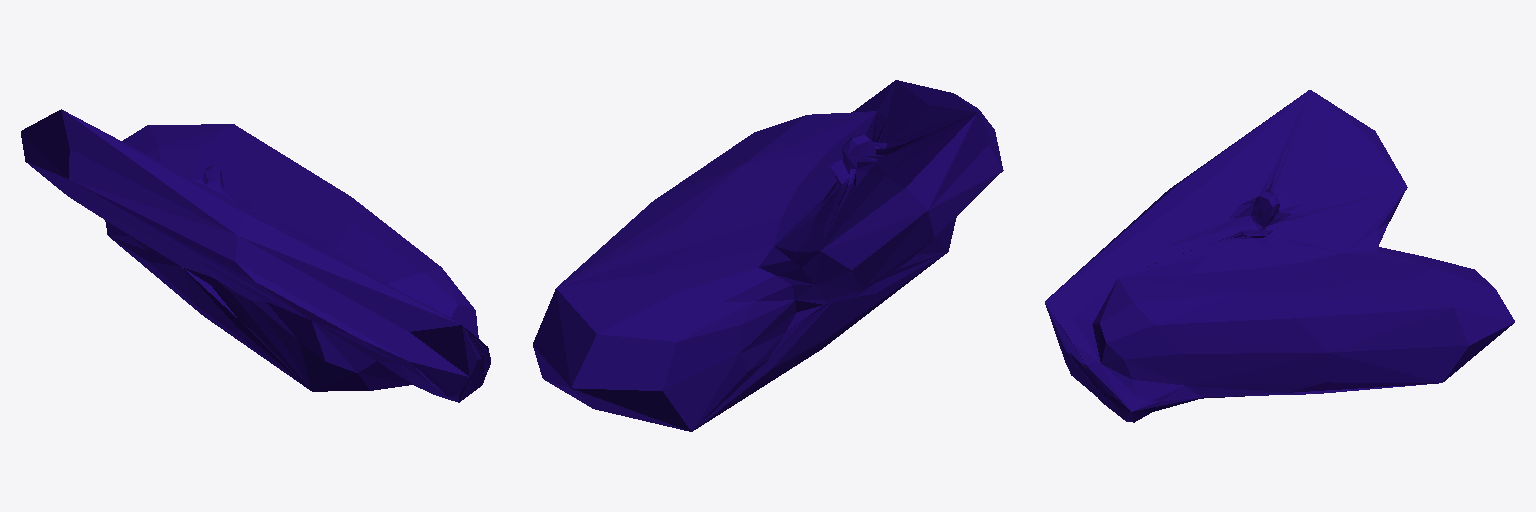
robot.urdf — blob243:

<robot name="blob243">
  <link name="random_obj_243">
    <contact>
      <lateral_friction value="1.0"/>
      <rolling_friction value="0.0"/>
      <inertia_scaling value="3.0"/>
      <contact_cfm value="0.0"/>
      <contact_erp value="1.0"/>
    </contact>
    <inertial>
      <origin rpy="0 0 0" xyz="0 0 0"/>
      <mass value="0.0660"/>
      <inertia ixx="1" ixy="0" ixz="0" iyy="1" iyz="0" izz="0"/>
    </inertial>
    <visual>
      <origin rpy="0 0 0" xyz="0 0 0"/>
      <geometry>
        <mesh filename="243.obj" scale="0.0088 0.0088 0.0088"/>
      </geometry>
      <material name="blockmat">
        <color rgba="0.18 0.08 0.49 1"/>
      </material>
    </visual>
    <collision>
      <origin rpy="0 0 0" xyz="0 0 0"/>
      <geometry>
        <mesh filename="243_coll.obj" scale="0.0088 0.0088 0.0088"/>
      </geometry>
    </collision>
  </link>
</robot>

--- Facts derived from the render (not from the file) ---
Views: 3 orthographic renders of the robot side by side, from view 1: azimuth 30°, elevation 25°; view 2: azimuth 150°, elevation 25°; view 3: azimuth 270°, elevation 25°.
Robot: blob243 — 1 links, 0 joints (none); root link random_obj_243; default pose: all joints at 0.
Visible links, largest first — view 1: random_obj_243; view 2: random_obj_243; view 3: random_obj_243.
Link boxes in pixels (x1,y1,x2,y2): random_obj_243: [21, 109, 490, 402]; random_obj_243: [533, 80, 1003, 431]; random_obj_243: [1045, 90, 1514, 422].
Bounding box of the posed robot: 0.0762 × 0.1196 × 0.0623 m (x, y, z).
Meshes: 1 distinct files referenced, 1 mesh visuals loaded (1 OBJ).
